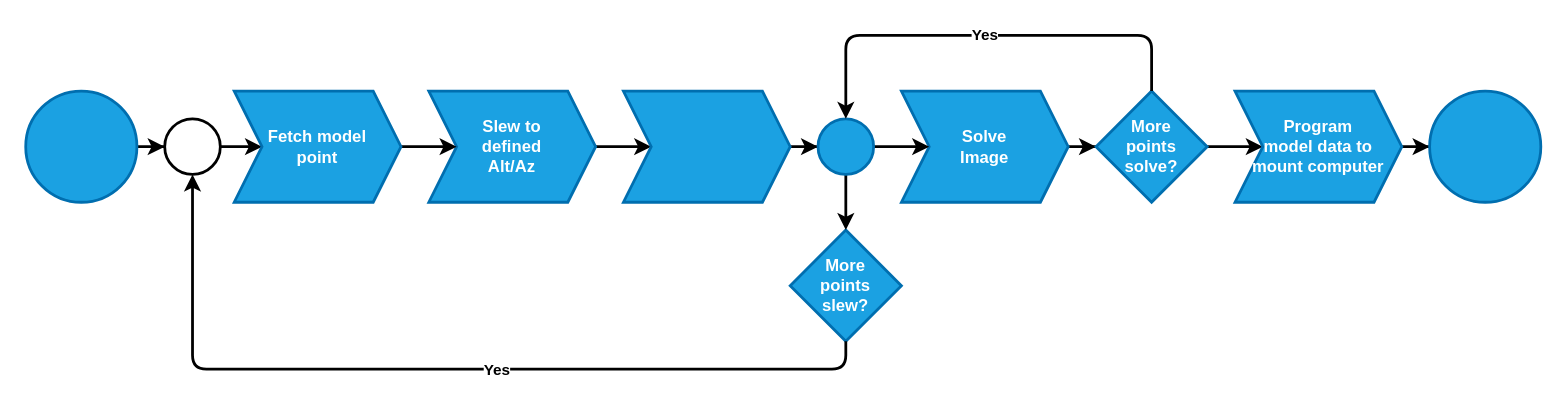
Image size: 1565x404. Some labels were removed from this diagram. The shapes that lost their labels are listed below. From the top down, each one's centre as x and y in pixels, then its label:
At point 81,146: "Start build".
At point 706,146: "Take an image".
At point 1485,146: "Finished".
